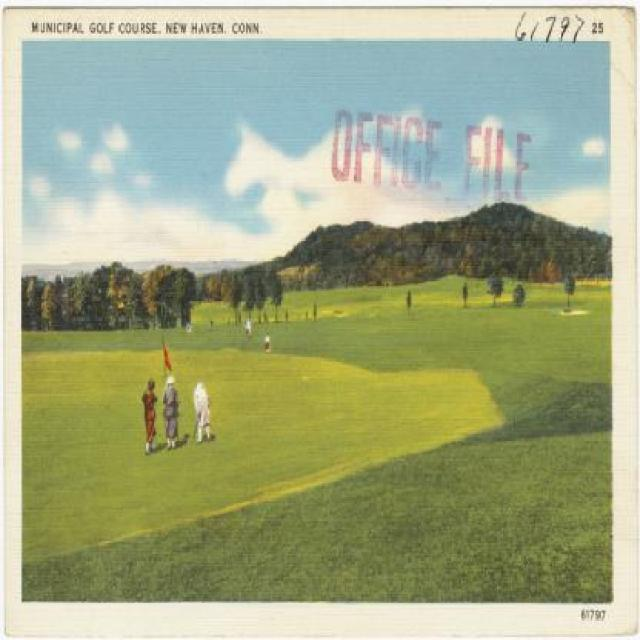Person: (161, 373, 184, 452), (140, 373, 160, 456), (192, 378, 215, 449)
